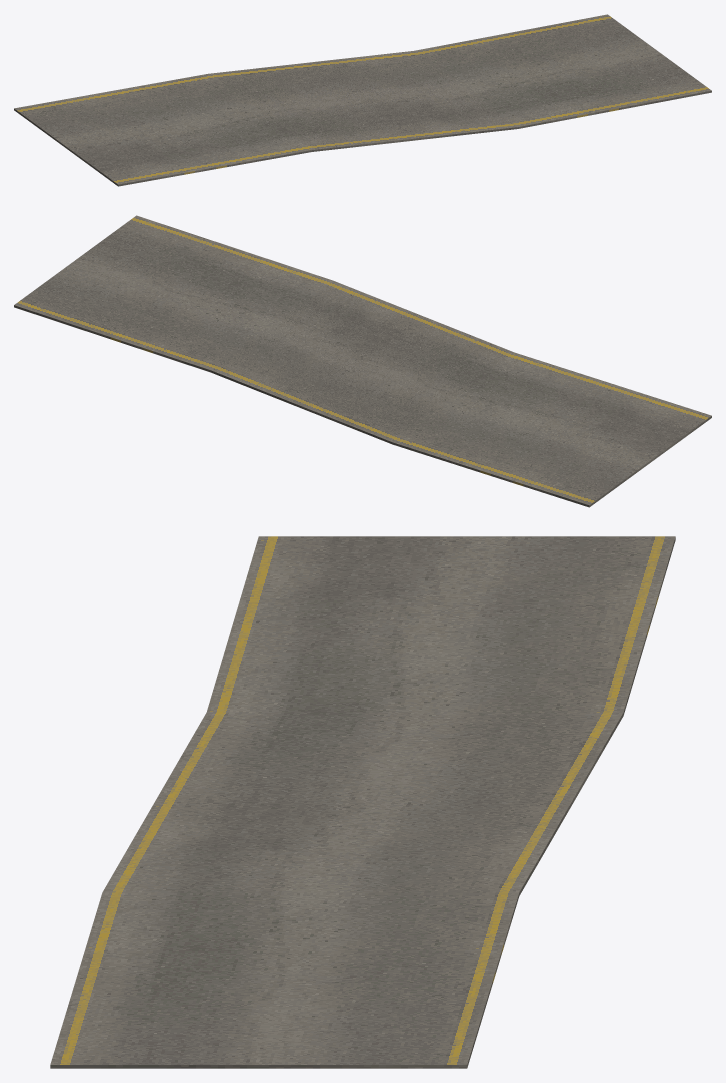
The model's file is road_2_sheer_no_sides.glb.
3 renders of one model, top to bottom at view 1: azimuth 30°, elevation 25°; view 2: azimuth 150°, elevation 25°; view 3: azimuth 270°, elevation 25°, orthographic. The views are drawn at different scales.
Parts seen in each view (by area): view 1: road_2_sheer_no_sides; view 2: road_2_sheer_no_sides; view 3: road_2_sheer_no_sides.
Boxes of the visible parts, left/top/right/bottom form: road_2_sheer_no_sides: left=14, top=14, right=711, bottom=186; road_2_sheer_no_sides: left=14, top=215, right=711, bottom=507; road_2_sheer_no_sides: left=50, top=536, right=675, bottom=1068.
Bounding box in the file's own units: 48 × 0.32 × 24.
Materials: 1 (1 with a texture image).
